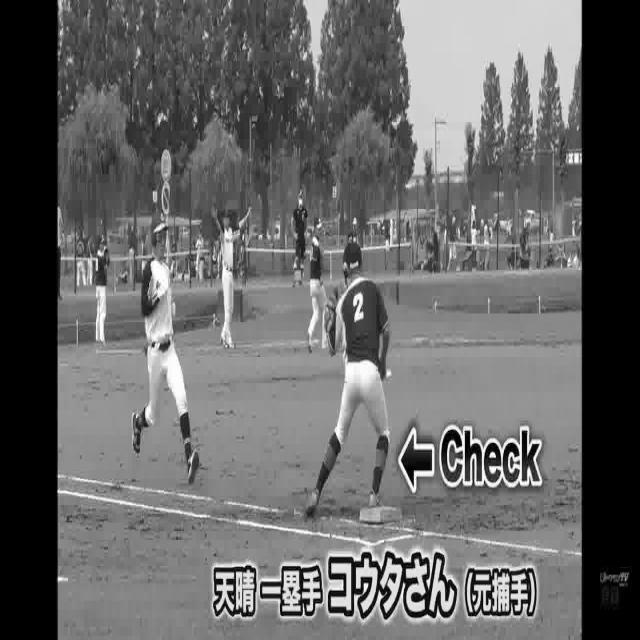base: (360, 504, 402, 527)
baseball_glove: (322, 282, 339, 330)
shoe: (129, 406, 144, 459), (304, 487, 322, 518), (187, 449, 200, 489), (369, 488, 386, 510)
